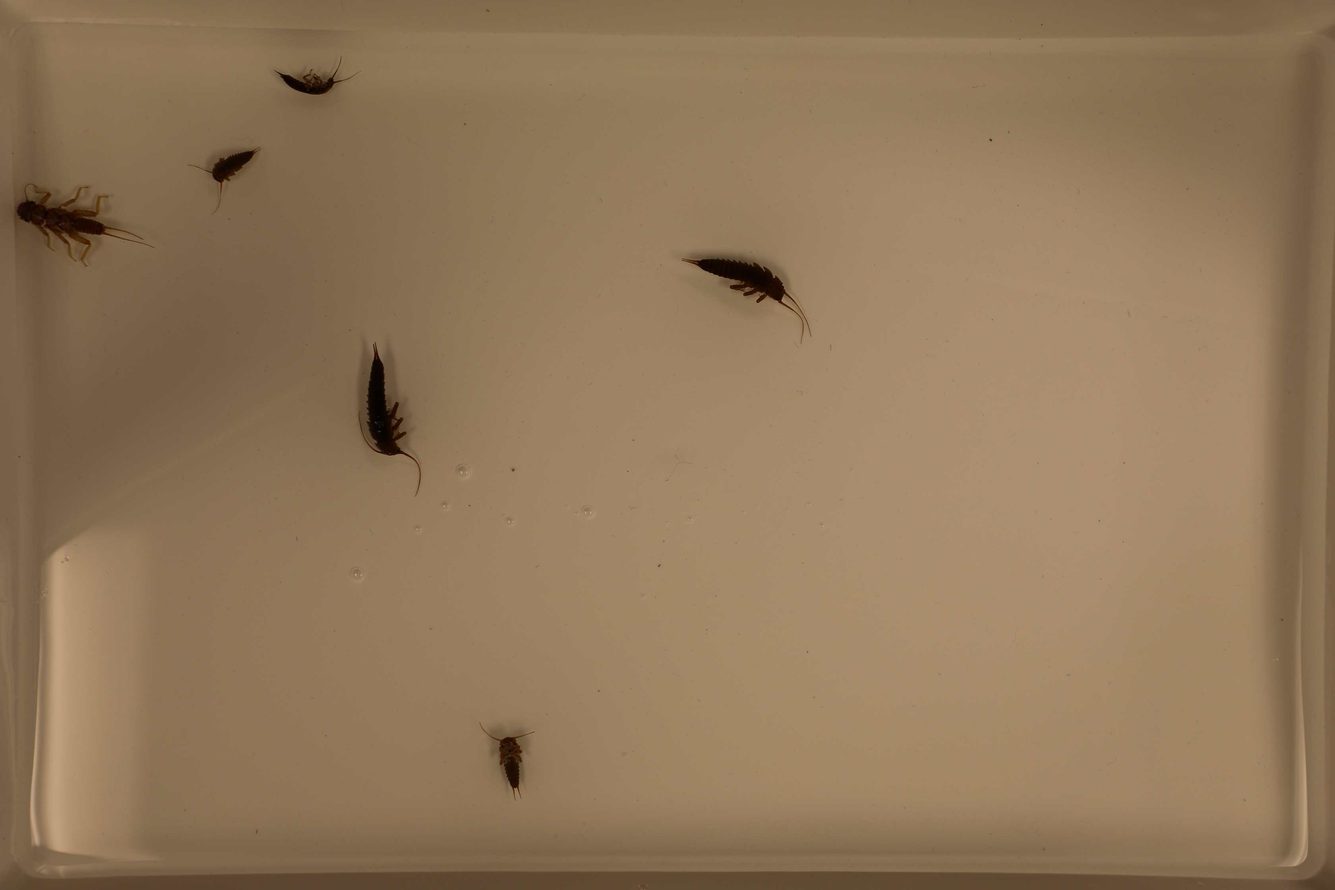Stonefly: (675, 248, 812, 345), (10, 185, 144, 264), (358, 347, 423, 497), (472, 710, 533, 799), (195, 149, 261, 216), (271, 54, 357, 102)
